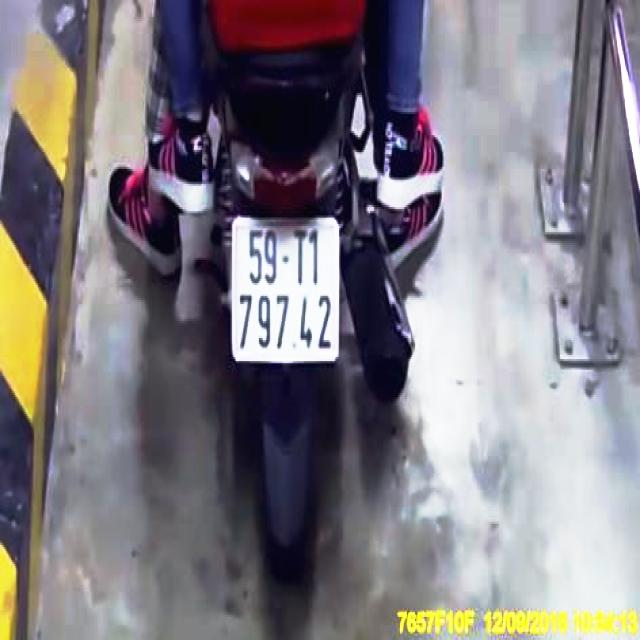license_plate: (233, 219, 339, 364)
